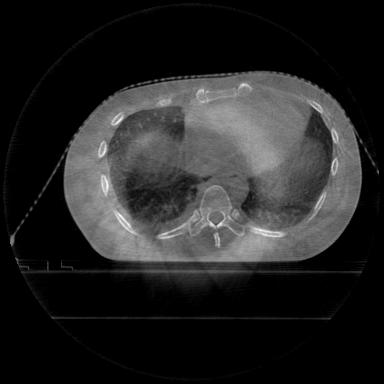body: (65, 72, 361, 262)
cord: (157, 185, 245, 247)
paru kanan: (108, 108, 194, 223)
paru kiri: (245, 109, 332, 229)
